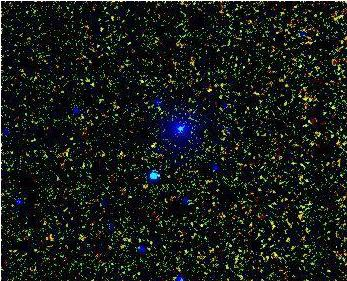star: (193, 79, 223, 109)
